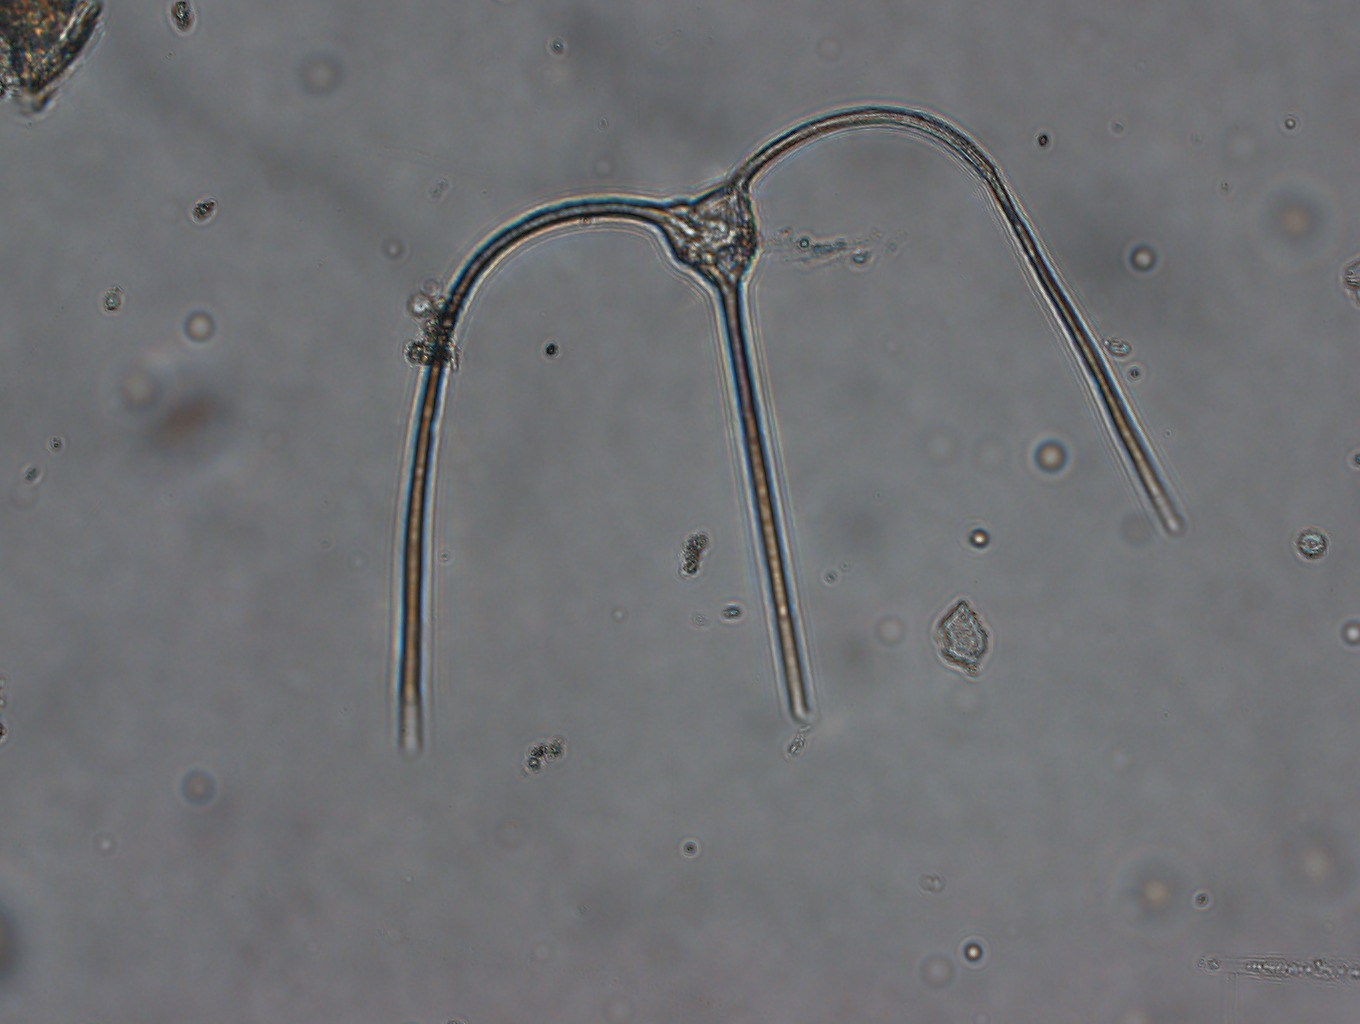ceratium trichoceros: (380, 91, 1191, 764)
